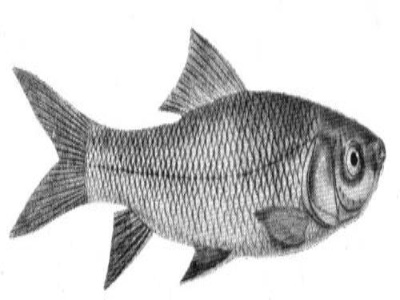rohu: (3, 26, 390, 288)
